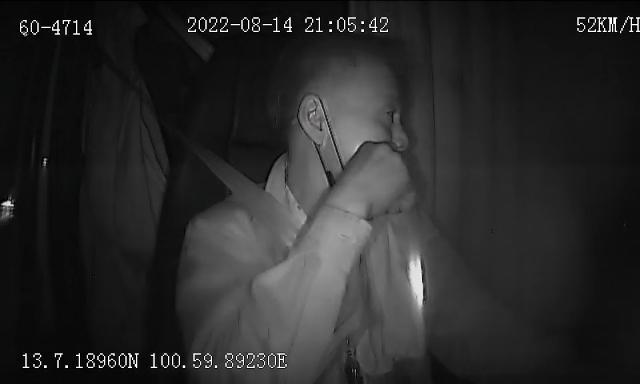SafeDriving: (304, 98, 322, 126)
Seatbelt: (200, 148, 294, 240)
